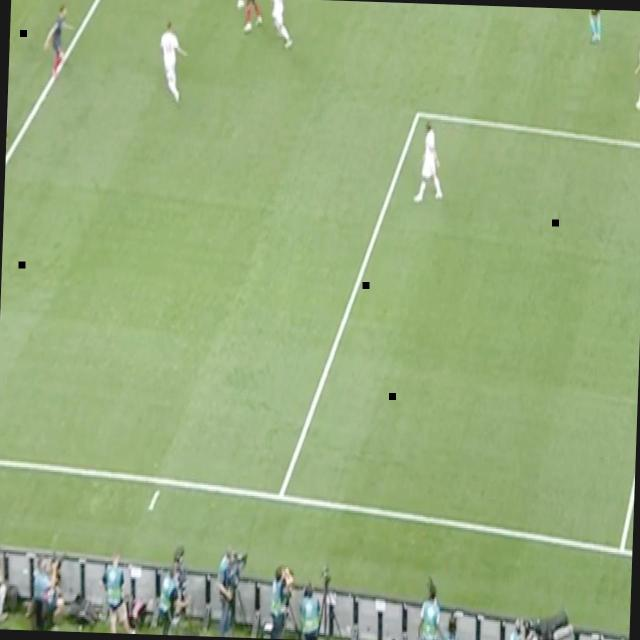ball: (233, 0, 245, 14)
player-white: (40, 2, 78, 88), (411, 115, 447, 204), (156, 18, 192, 106), (266, 0, 296, 50), (630, 27, 640, 119), (239, 0, 265, 34), (584, 9, 604, 48)
